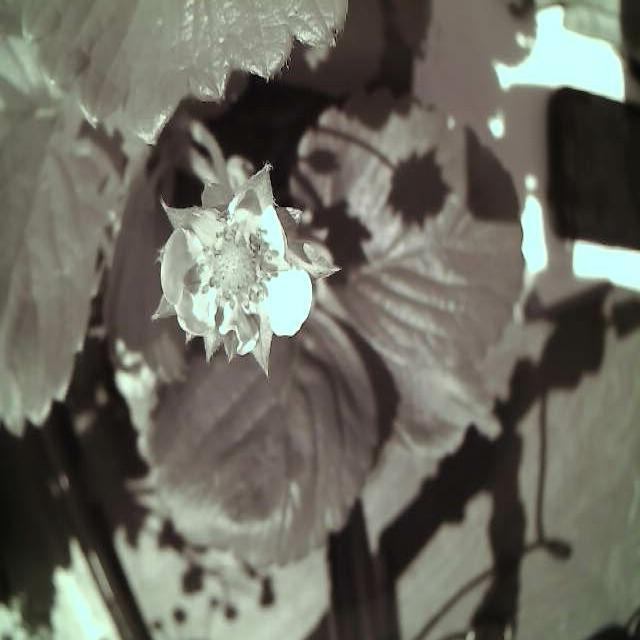flower: (158, 195, 328, 366)
